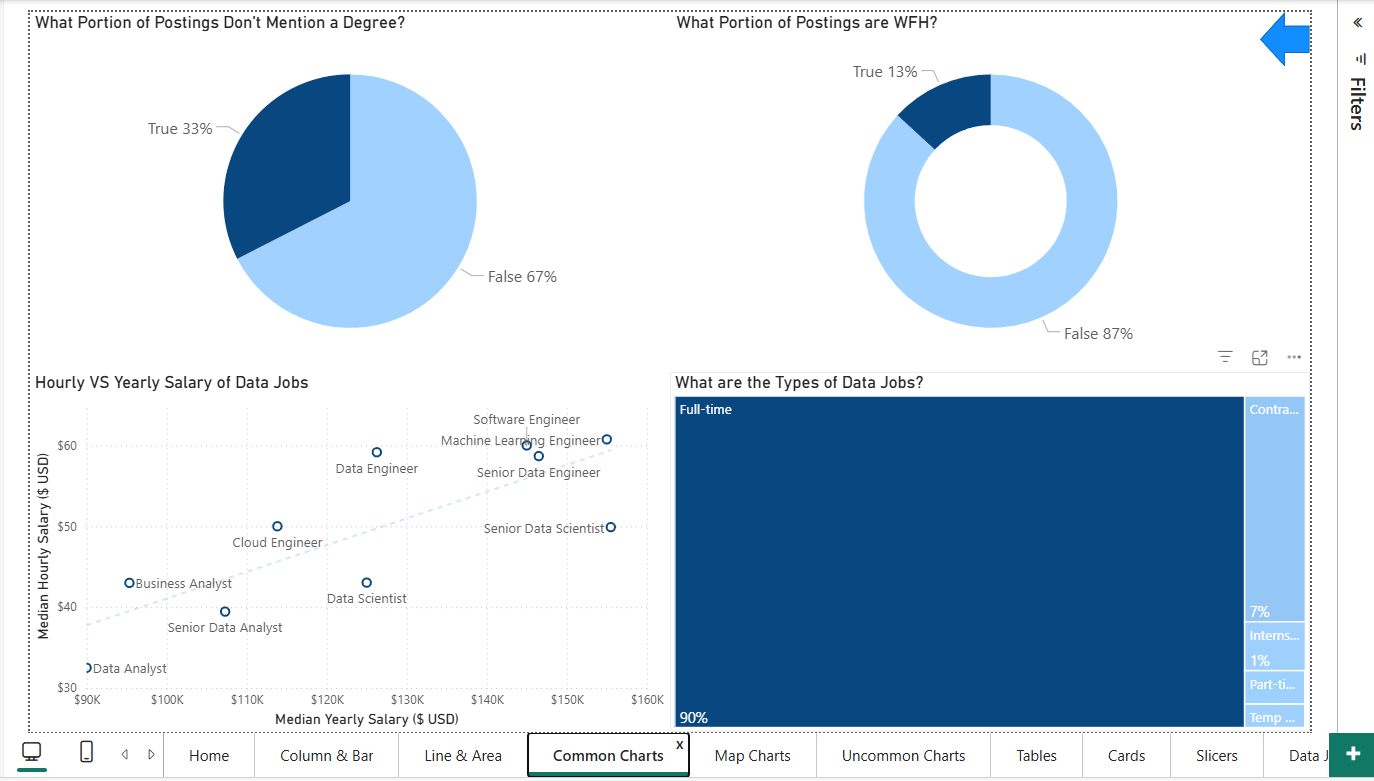

Layout of this report page (visuals, bound fields, positions):
{"tool":"powerbi","page":{"name":"Common Charts","canvas":[1280,720],"ordinal":3},"visuals":[{"type":"pieChart","title":"What Portion of Postings Don''t Mention a Degree?","fields":{"Category":["job_postings_flat.job_no_degree_mention"],"Y":["CountNonNull(job_postings_flat.job_no_degree_mention)"]},"box":[0,0,640.6,359.5],"z":0},{"type":"donutChart","title":"What Portion of Postings are WFH?","fields":{"Category":["job_postings_flat.job_work_from_home"],"Y":["CountNonNull(job_postings_flat.job_work_from_home)"]},"box":[640.6,0,639.4,359.5],"z":1000},{"type":"treemap","title":"What are the Types of Data Jobs?","fields":{"Group":["job_postings_flat.job_schedule_type"],"Values":["CountNonNull(job_postings_flat.job_schedule_type)"]},"box":[639.4,359.5,640.6,360.7],"z":2000},{"type":"scatterChart","title":"Hourly VS Yearly Salary of Data Jobs ","fields":{"X":["Median(job_postings_flat.salary_year_avg)1"],"Series":["job_postings_flat.job_title_short"],"Y":["job_postings_flat.salary_hour_avg"]},"box":[0,360,639,360],"z":3000},{"type":"shape","box":[1230.2,0,49.8,54.7],"z":4000}]}

Visuals, with their boxes on the page's 1280x720 design canvas (x1, y1, x2, y2). These are canvas units, not pixel positions in the 1374x781 screenshot, which may show the page scaled, cropped or inside an application window:
"What Portion of Postings Don''t Mention a Degree?" pieChart: box=[0, 0, 641, 360]
"What Portion of Postings are WFH?" donutChart: box=[641, 0, 1280, 360]
"What are the Types of Data Jobs?" treemap: box=[639, 360, 1280, 720]
"Hourly VS Yearly Salary of Data Jobs " scatterChart: box=[0, 360, 639, 720]
shape: box=[1230, 0, 1280, 55]
